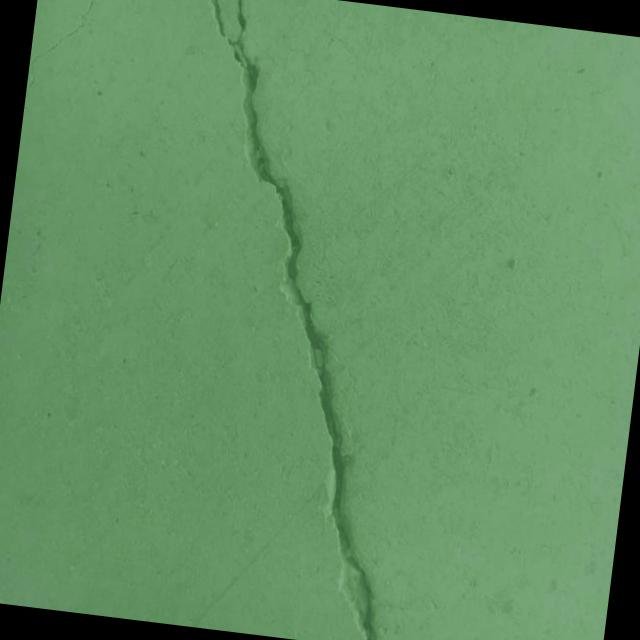crack: (131, 0, 454, 640), (26, 0, 107, 98)
